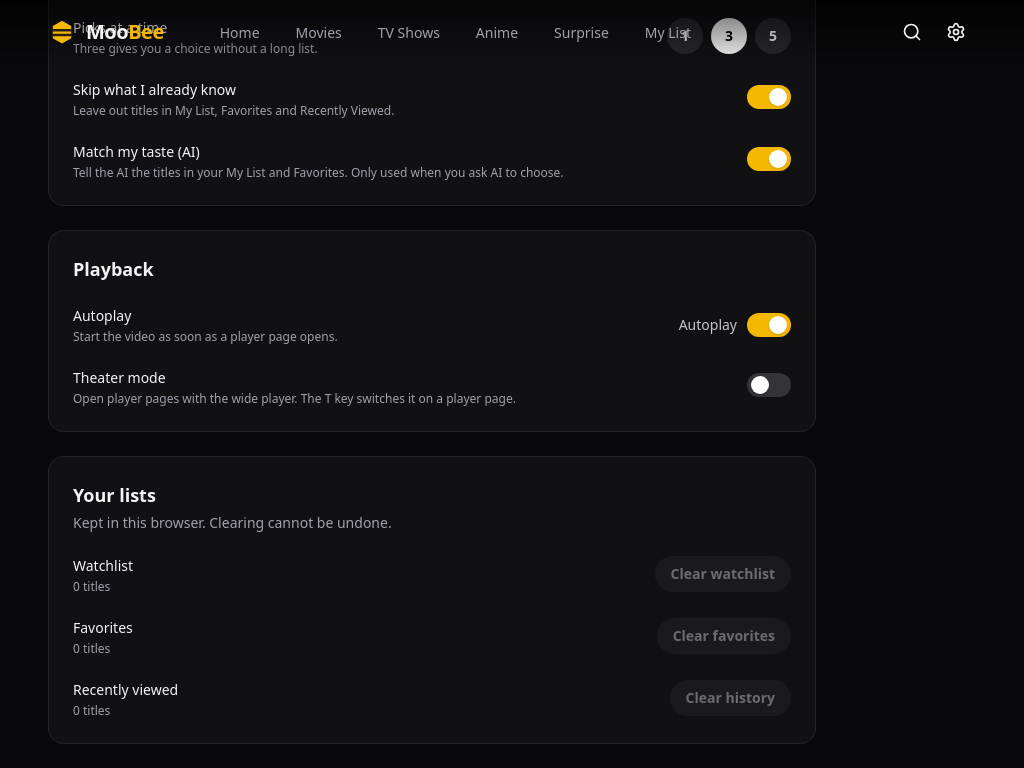
Settings page › sets whether player pages open in theater mode
(page scrolled)
Step 1. Click the switch named "Theater mode" → click(769, 384), box [747,372,791,396]
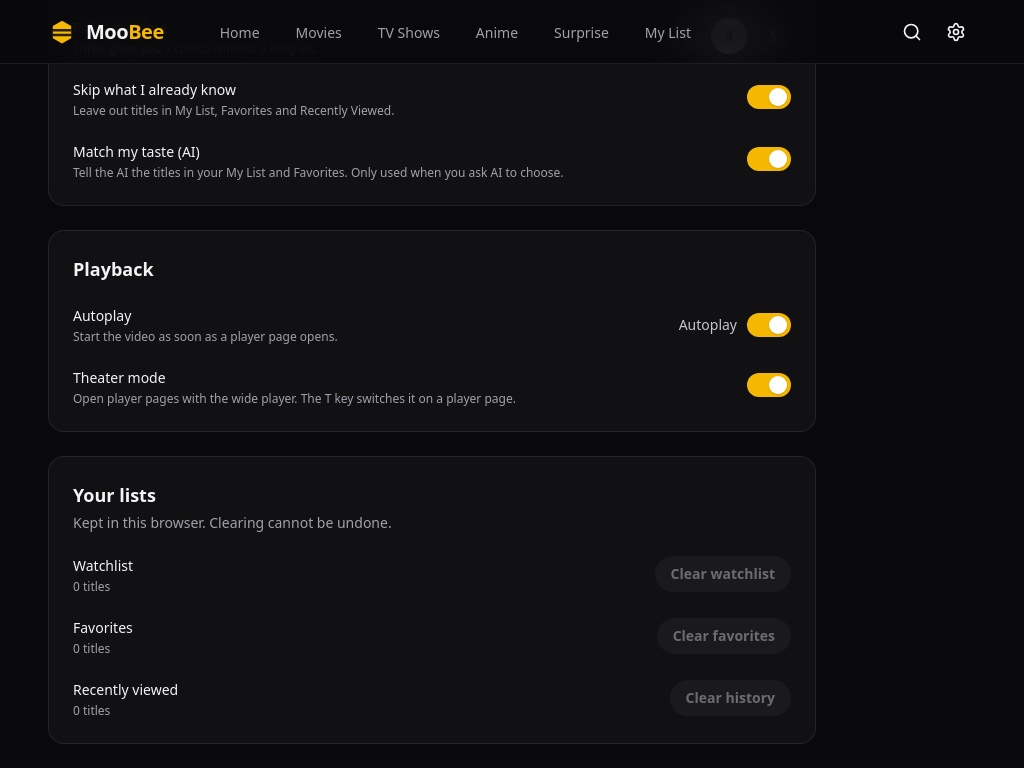
Check: the switch named "Theater mode" is checked, box [747,372,791,396]
